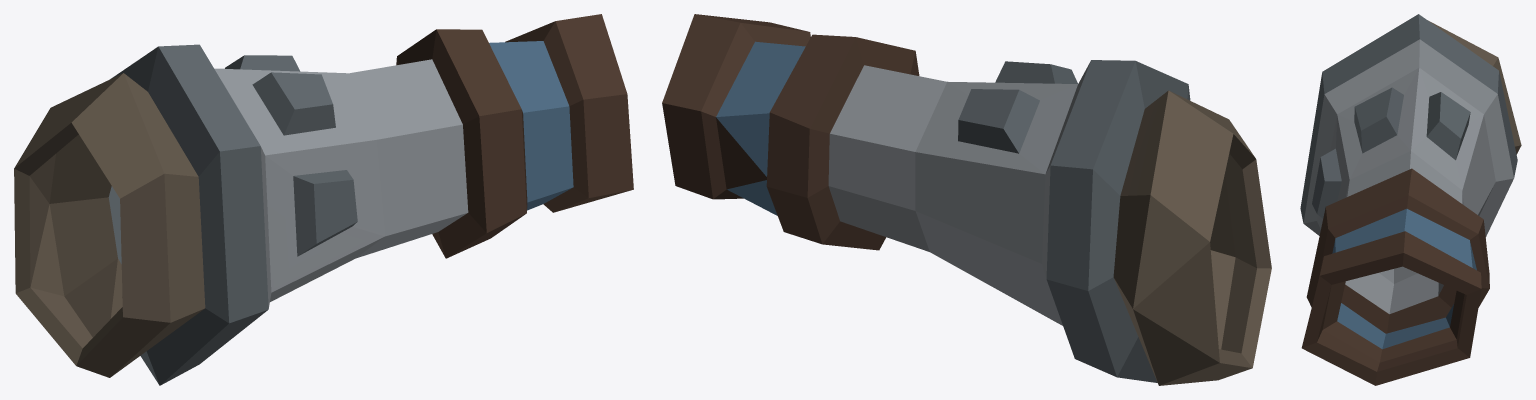
Rendered from Chr_ArmLowerLeft_Female_15_Drop.fbx.
3 renders of one model, left to right at view 1: azimuth 30°, elevation 25°; view 2: azimuth 150°, elevation 25°; view 3: azimuth 270°, elevation 25°, orthographic. The views are drawn at different scales.
Parts seen in each view (by area): view 1: Chr_ArmLowerLeft_Female_15_Static; view 2: Chr_ArmLowerLeft_Female_15_Static; view 3: Chr_ArmLowerLeft_Female_15_Static.
Boxes of the visible parts, x1,y1,x2,y2 form: Chr_ArmLowerLeft_Female_15_Static: [14, 14, 633, 385]; Chr_ArmLowerLeft_Female_15_Static: [662, 14, 1271, 385]; Chr_ArmLowerLeft_Female_15_Static: [1300, 14, 1521, 385].
Size of the model in its own units: 30.02 by 16.91 by 12.3.
